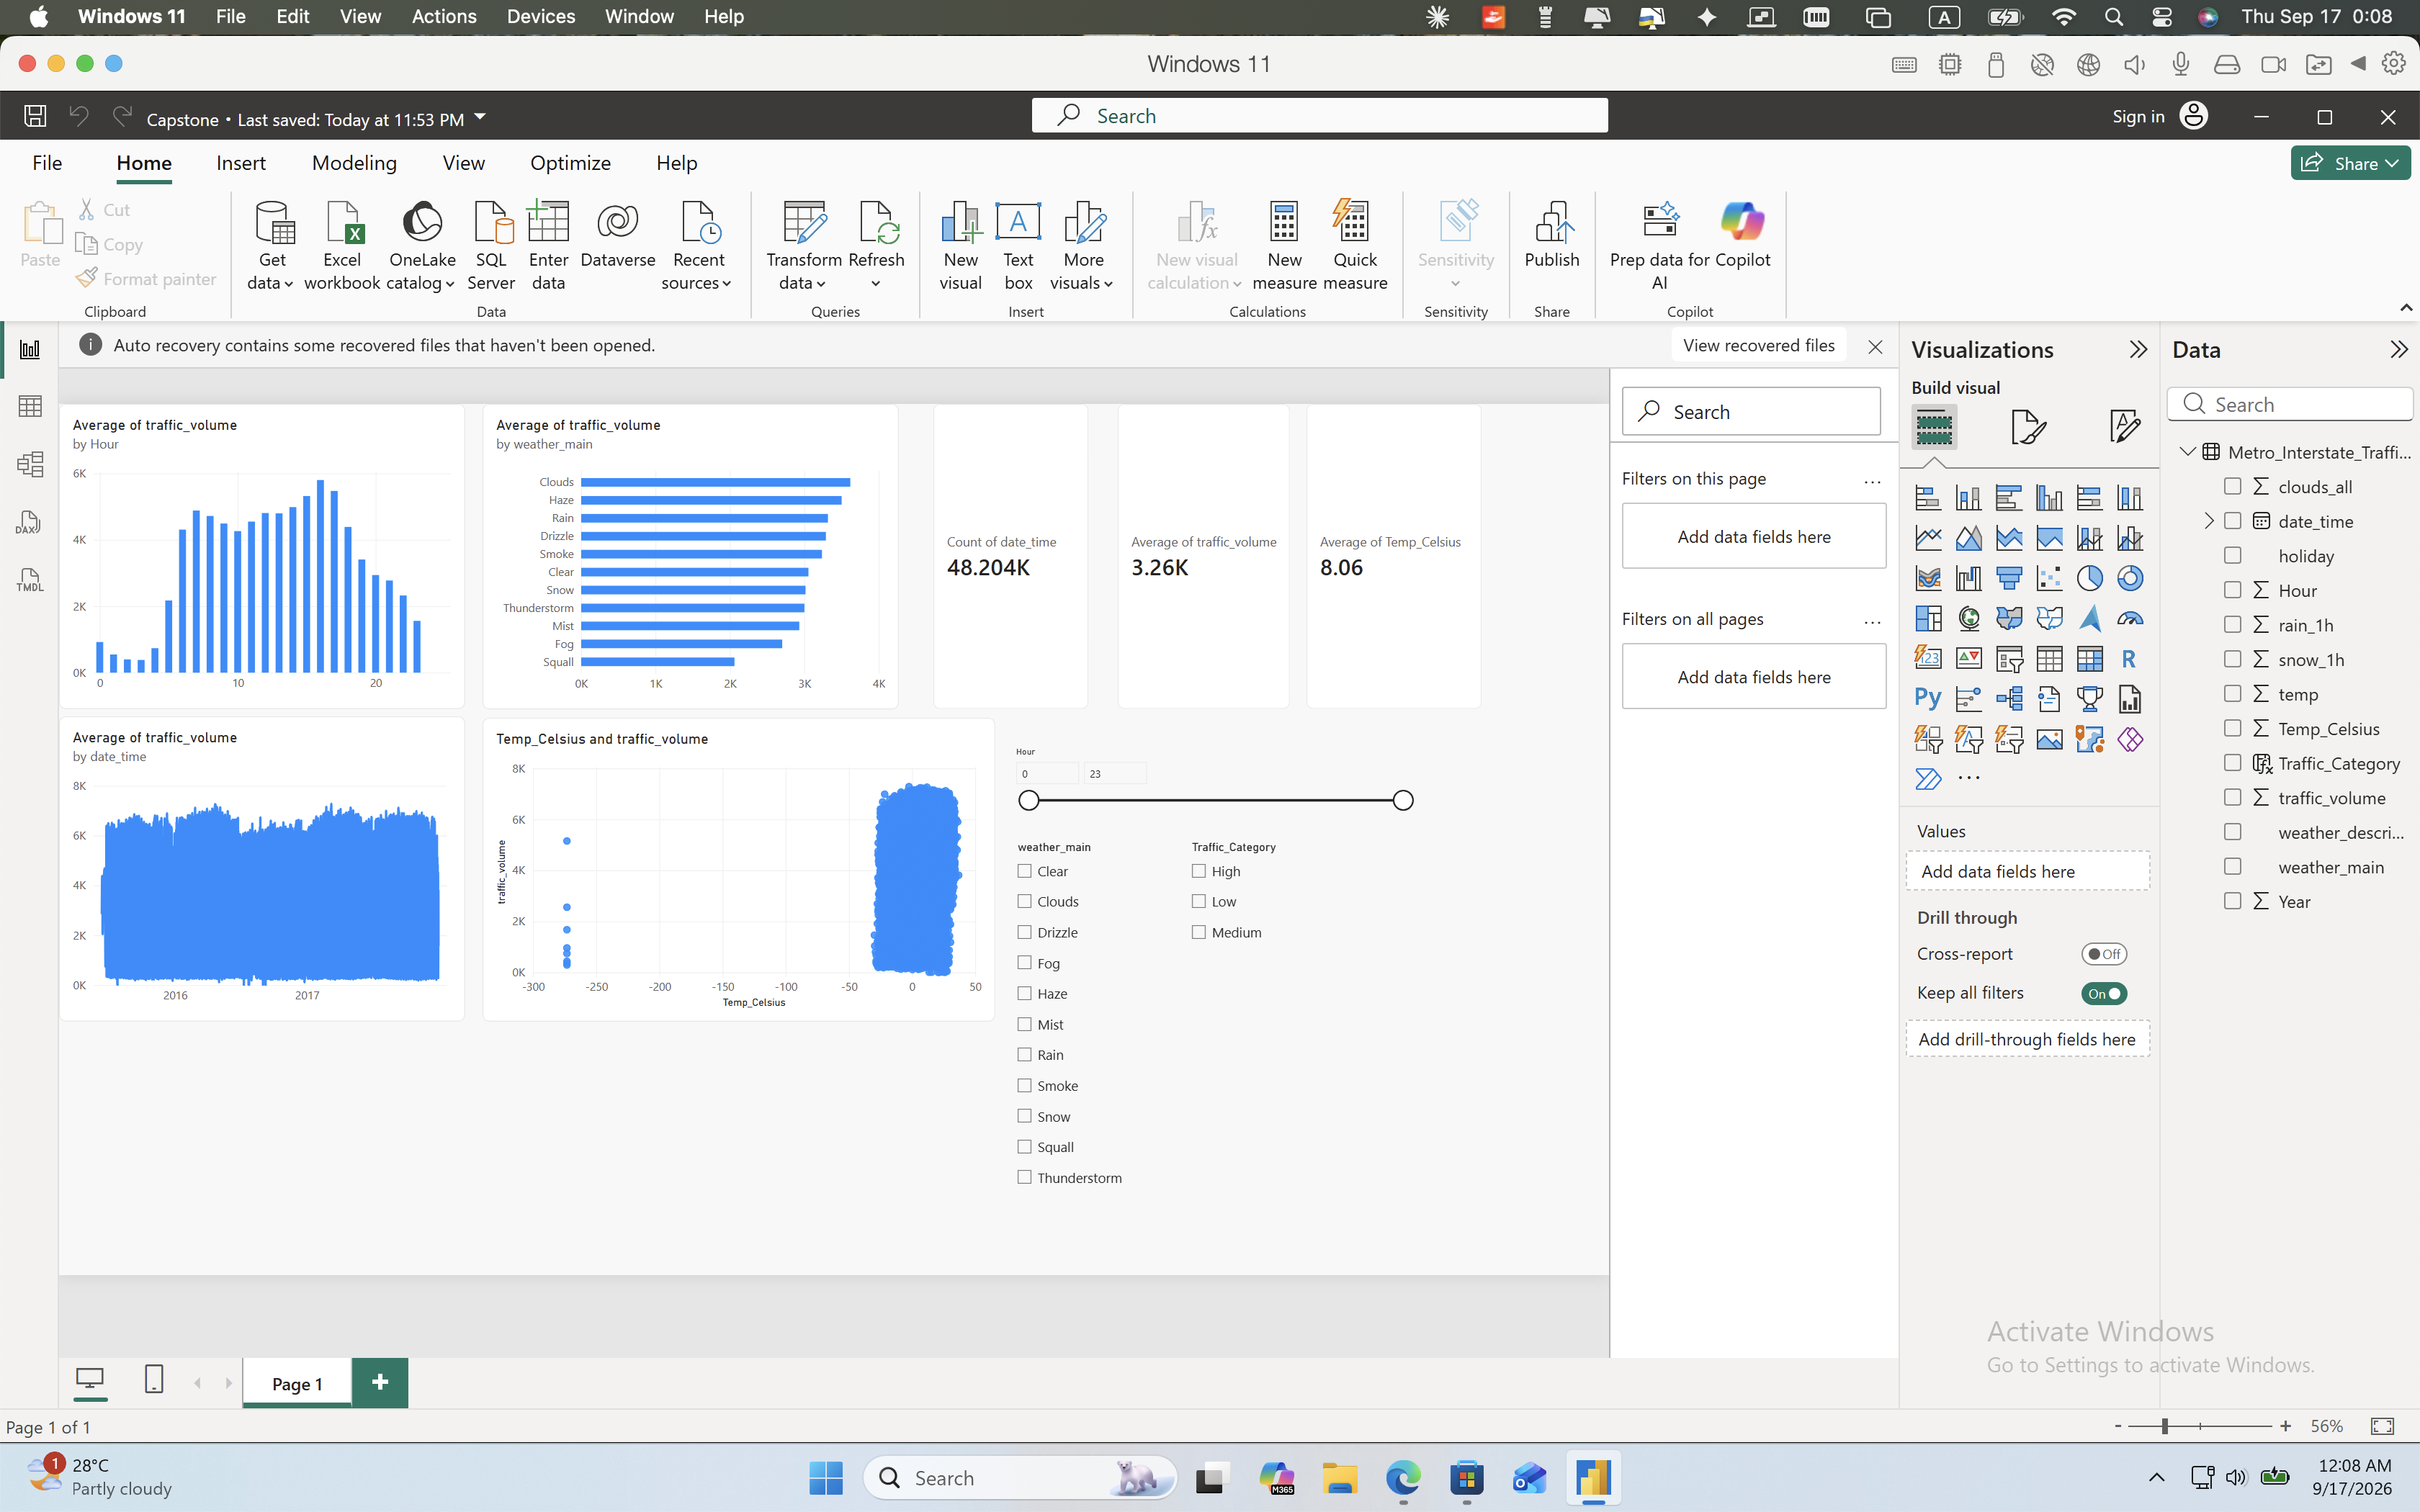

What the dashboard file says about the page in this screenshot:
{"tool":"powerbi","page":{"name":"Page 1","canvas":[1920,1080],"ordinal":0},"visuals":[{"type":"lineChart","fields":{"Category":["Metro_Interstate_Traffic_Volume.date_time.Variation.Date Hierarchy.Month"],"Y":["Avg(Metro_Interstate_Traffic_Volume.traffic_volume)"]},"box":[0,388,503,378],"z":1},{"type":"clusteredBarChart","fields":{"Category":["Metro_Interstate_Traffic_Volume.weather_main"],"Y":["Avg(Metro_Interstate_Traffic_Volume.traffic_volume)"]},"box":[524.6,0,515.7,378.3],"z":2},{"type":"scatterChart","fields":{"X":["Metro_Interstate_Traffic_Volume.Temp_Celsius"],"Y":["Metro_Interstate_Traffic_Volume.traffic_volume"]},"box":[524.6,389,635.2,376.5],"z":3},{"type":"cardVisual","fields":{"Data":["CountNonNull(Metro_Interstate_Traffic_Volume.date_time)"]},"box":[1083.1,0,192.7,378.3],"z":4},{"type":"cardVisual","fields":{"Data":["Avg(Metro_Interstate_Traffic_Volume.traffic_volume)"]},"box":[1311.4,0,213.9,378.1],"z":5},{"type":"cardVisual","fields":{"Data":["Avg(Metro_Interstate_Traffic_Volume.Temp_Celsius)"]},"box":[1545.6,0,217.6,378.1],"z":6},{"type":"slicer","fields":{"Values":["Metro_Interstate_Traffic_Volume.Hour"]},"box":[1177.7,424.7,503.2,116],"z":7},{"type":"clusteredColumnChart","fields":{"Category":["Metro_Interstate_Traffic_Volume.Hour"],"Y":["Avg(Metro_Interstate_Traffic_Volume.traffic_volume)"]},"box":[0,0,503,378],"z":8},{"type":"slicer","fields":{"Values":["Metro_Interstate_Traffic_Volume.weather_main"]},"box":[1179.5,540.7,157,456.8],"z":9},{"type":"slicer","fields":{"Values":["Metro_Interstate_Traffic_Volume.Traffic_Category"]},"box":[1395.4,540.7,130.3,139.2],"z":10}]}

Visuals, with their boxes on the page's 1920x1080 design canvas (x1, y1, x2, y2). These are canvas units, not pixel positions in the 2420x1512 screenshot, which may show the page scaled, cropped or inside an application window:
lineChart - Metro_Interstate_Traffic_Volume.date_time.Variation.Date Hierarchy.Month x Avg(Metro_Interstate_Traffic_Volume.traffic_volume): {"x1": 0, "y1": 388, "x2": 503, "y2": 766}
clusteredBarChart - Metro_Interstate_Traffic_Volume.weather_main x Avg(Metro_Interstate_Traffic_Volume.traffic_volume): {"x1": 525, "y1": 0, "x2": 1040, "y2": 378}
scatterChart - Metro_Interstate_Traffic_Volume.Temp_Celsius x Metro_Interstate_Traffic_Volume.traffic_volume: {"x1": 525, "y1": 389, "x2": 1160, "y2": 766}
cardVisual - CountNonNull(Metro_Interstate_Traffic_Volume.date_time): {"x1": 1083, "y1": 0, "x2": 1276, "y2": 378}
cardVisual - Avg(Metro_Interstate_Traffic_Volume.traffic_volume): {"x1": 1311, "y1": 0, "x2": 1525, "y2": 378}
cardVisual - Avg(Metro_Interstate_Traffic_Volume.Temp_Celsius): {"x1": 1546, "y1": 0, "x2": 1763, "y2": 378}
slicer - Metro_Interstate_Traffic_Volume.Hour: {"x1": 1178, "y1": 425, "x2": 1681, "y2": 541}
clusteredColumnChart - Metro_Interstate_Traffic_Volume.Hour x Avg(Metro_Interstate_Traffic_Volume.traffic_volume): {"x1": 0, "y1": 0, "x2": 503, "y2": 378}
slicer - Metro_Interstate_Traffic_Volume.weather_main: {"x1": 1180, "y1": 541, "x2": 1336, "y2": 998}
slicer - Metro_Interstate_Traffic_Volume.Traffic_Category: {"x1": 1395, "y1": 541, "x2": 1526, "y2": 680}
